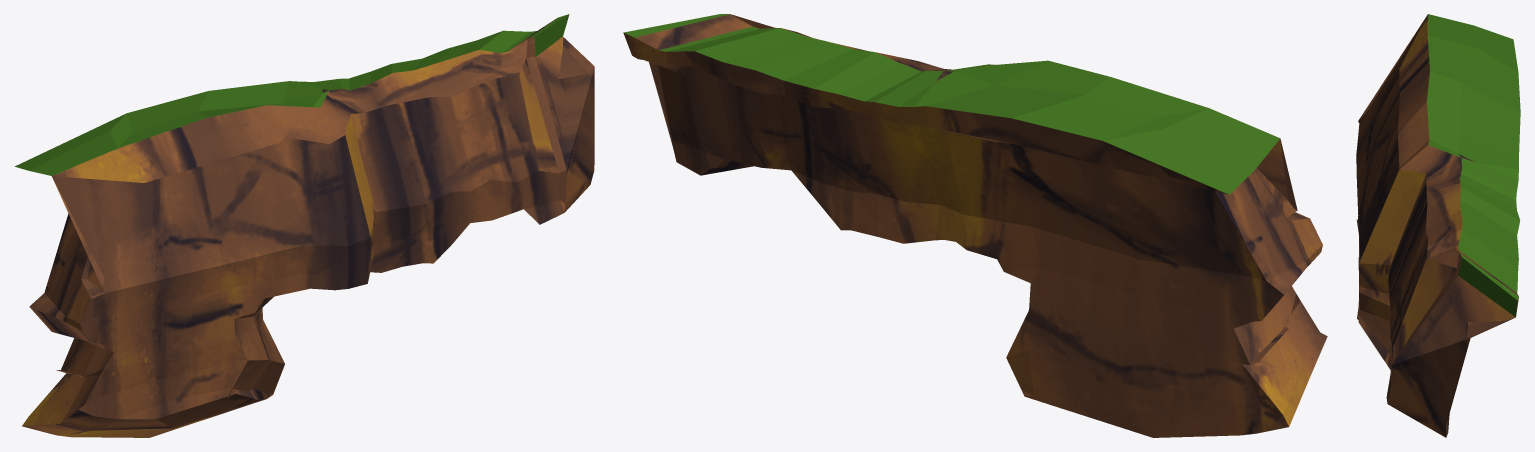
Rendered from salifinal.obj.
3 renders of one model, left to right at view 1: azimuth 30°, elevation 25°; view 2: azimuth 150°, elevation 25°; view 3: azimuth 270°, elevation 25°, orthographic. The views are drawn at different scales.
Parts seen in each view (by area): view 1: Plane.037_Plane.040; view 2: Plane.037_Plane.040; view 3: Plane.037_Plane.040.
Part boxes in pixels (left/top/right/bottom): Plane.037_Plane.040: left=15, top=14, right=594, bottom=437; Plane.037_Plane.040: left=623, top=14, right=1327, bottom=437; Plane.037_Plane.040: left=1356, top=14, right=1520, bottom=437.
Bounding box in the file's own units: 284 × 147 × 68.14.
1 material, 1 textured.
